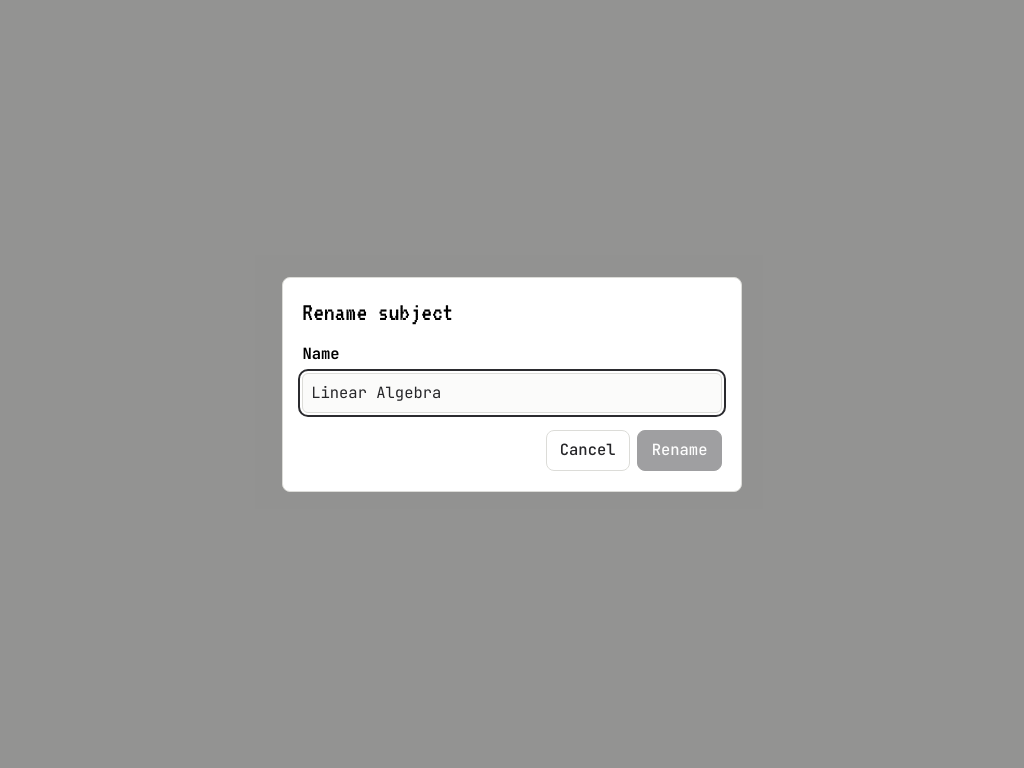
Test: PromptDialog › submits the trimmed value once it differs from the initial one
Later steps or results of the test are not shown.
Expected: the button "Rename" is disabled, [638,430,722,471]
Replace the text in the field labelled "Name" with "  Linear Algebra II  " at [512, 393], box [302,373,722,413]
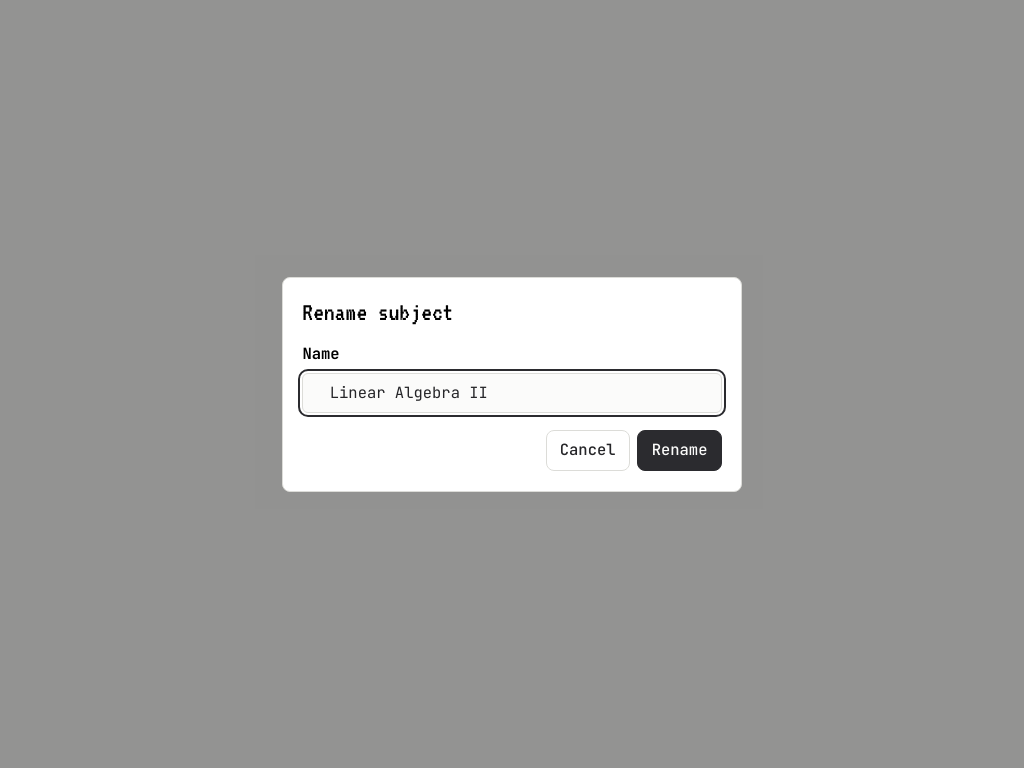
Now the button "Rename" is enabled, box [638,430,722,471]
